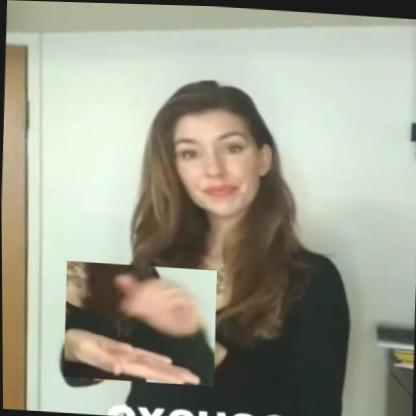ExcuseMe: (63, 260, 217, 385)
